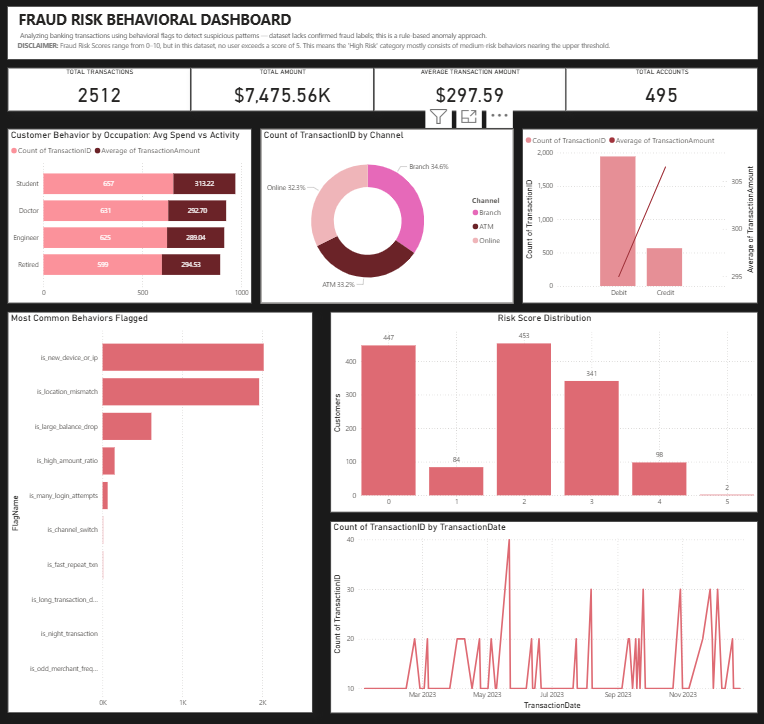

This screenshot's page, from the dashboard's own definition file:
{"tool":"powerbi","page":{"name":"Page 1","canvas":[1410,1500],"ordinal":0},"visuals":[{"type":"card","title":"TOTAL TRANSACTIONS","fields":{"Values":["Count(Transactions.TransactionID)"]},"box":[16,128,336,80],"z":0,"group":"g1"},{"type":"textbox","box":[16,16,1376,96],"z":0},{"type":"card","title":"TOTAL AMOUNT","fields":{"Values":["Sum(Transactions.TransactionAmount)"]},"box":[352,128,336,80],"z":1000,"group":"g1"},{"type":"barChart","title":"Customer Behavior by Occupation: Avg Spend vs Activity","fields":{"Category":["Transactions.CustomerOccupation"],"Y":["Count(Transactions.TransactionID)","Avg(Transactions.TransactionAmount)"]},"box":[16,240,448,320],"z":1000},{"type":"card","title":"AVERAGE TRANSACTION AMOUNT","fields":{"Values":["Avg(Transactions.TransactionAmount)"]},"box":[688,128,352,80],"z":2000,"group":"g1"},{"type":"group","id":"g1","title":"Group 1","box":[16,128,1376,80],"z":2000},{"type":"card","title":"TOTAL ACCOUNTS","fields":{"Values":["Count(Transactions.AccountID)"]},"box":[1040,128,352,80],"z":3000,"group":"g1"},{"type":"lineClusteredColumnComboChart","fields":{"Category":["Transactions.TransactionType"],"Y":["Count(Transactions.TransactionID)"],"Y2":["Avg(Transactions.TransactionAmount)"]},"box":[960,240,432,320],"z":3000},{"type":"donutChart","fields":{"Category":["Transactions.Channel"],"Y":["Count(Transactions.TransactionID)"]},"box":[480,240,464,320],"z":4000},{"type":"clusteredBarChart","title":"Most Common Behaviors Flagged","fields":{"Category":["Transactions.FlagName"],"Y":["Sum(Transactions.Triggered)"]},"box":[16,576,560,736],"z":5000},{"type":"clusteredColumnChart","title":"Risk Score Distribution","fields":{"Category":["Transactions.FraudRiskScore"],"Y":["Count(Transactions.AccountID)"]},"box":[608,576,784,368],"z":6000},{"type":"lineChart","fields":{"Category":["Transactions.TransactionDate"],"Y":["CountNonNull(Transactions.TransactionID)"]},"box":[608,960,784,352],"z":7000}]}

Visuals, with their boxes on the page's 1410x1500 design canvas (x1, y1, x2, y2). These are canvas units, not pixel positions in the 764x724 screenshot, which may show the page scaled, cropped or inside an application window:
"TOTAL TRANSACTIONS" card: detection(16, 128, 352, 208)
textbox: detection(16, 16, 1392, 112)
"TOTAL AMOUNT" card: detection(352, 128, 688, 208)
"Customer Behavior by Occupation: Avg Spend vs Activity" barChart: detection(16, 240, 464, 560)
"AVERAGE TRANSACTION AMOUNT" card: detection(688, 128, 1040, 208)
"Group 1" group: detection(16, 128, 1392, 208)
"TOTAL ACCOUNTS" card: detection(1040, 128, 1392, 208)
lineClusteredColumnComboChart - Transactions.TransactionType x Count(Transactions.TransactionID): detection(960, 240, 1392, 560)
donutChart - Transactions.Channel x Count(Transactions.TransactionID): detection(480, 240, 944, 560)
"Most Common Behaviors Flagged" clusteredBarChart: detection(16, 576, 576, 1312)
"Risk Score Distribution" clusteredColumnChart: detection(608, 576, 1392, 944)
lineChart - Transactions.TransactionDate x CountNonNull(Transactions.TransactionID): detection(608, 960, 1392, 1312)
